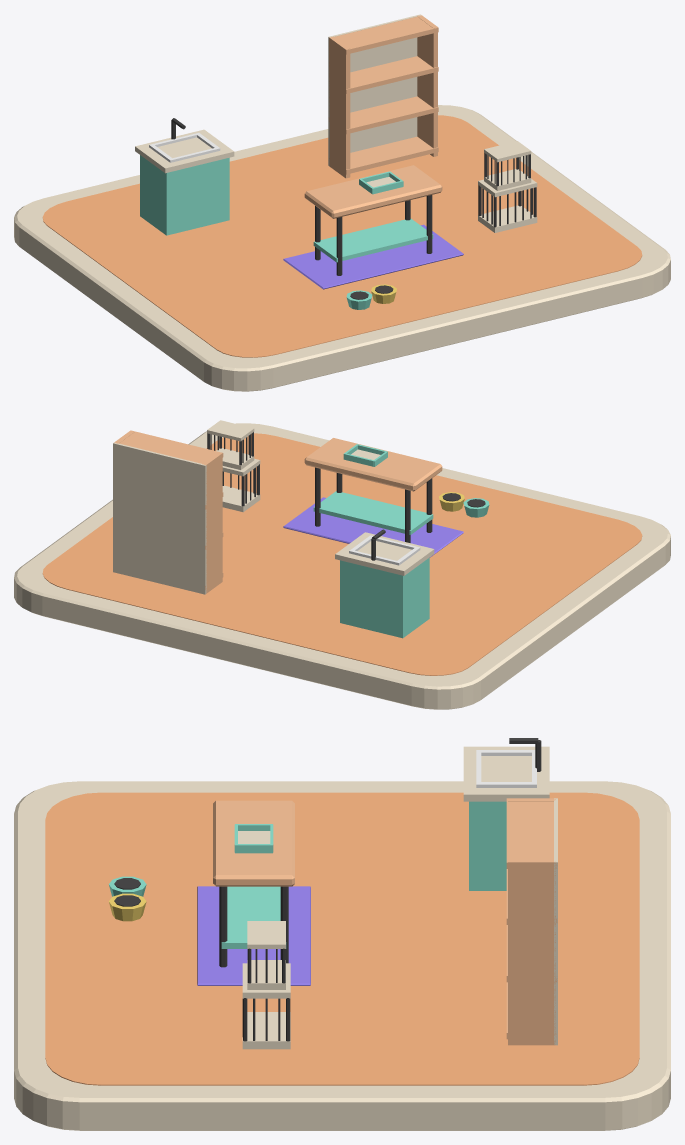
Rendered from room.fbx.
The picture shows the model from 3 angles, top to bottom: view 1: azimuth 30°, elevation 25°; view 2: azimuth 150°, elevation 25°; view 3: azimuth 270°, elevation 25°; orthographic projection. The views are drawn at different scales.
Visible parts, largest first — view 1: COM-02 Floor Surface, COM-01 Rounded Base Direct, Cabinet, Back, Rug, Worktop, Side, Lower shelf, Counter, Side.001, Shelf.003, Shelf.001 (+5 smaller); view 2: COM-02 Floor Surface, COM-01 Rounded Base Direct, Back, Cabinet, Worktop, Rug, Lower shelf, Side, Counter, Shelf.003, Floor, Roof.001 (+1 smaller); view 3: COM-02 Floor Surface, COM-01 Rounded Base Direct, Side.001, Worktop, Rug, Counter, Cabinet, Shelf.003, Lower shelf, Floor, Roof.001, Back (+4 smaller).
Part boxes in pixels (box(x1,y1,x2,y2)): COM-02 Floor Surface: box(42, 115, 642, 357); COM-01 Rounded Base Direct: box(14, 105, 670, 391); Cabinet: box(140, 155, 229, 235); Back: box(328, 14, 421, 166); Rug: box(283, 224, 463, 289); Worktop: box(304, 165, 442, 218); Side: box(329, 36, 350, 178); Lower shelf: box(313, 218, 433, 262); Counter: box(135, 129, 234, 173); Side.001: box(417, 15, 437, 156); Shelf.003: box(331, 16, 438, 54); Shelf.001: box(328, 96, 438, 134); COM-02 Floor Surface: box(42, 433, 642, 675); COM-01 Rounded Base Direct: box(14, 423, 670, 709); Back: box(113, 442, 206, 594); Cabinet: box(340, 557, 429, 638); Worktop: box(304, 438, 442, 491); Rug: box(283, 497, 463, 557); Lower shelf: box(313, 491, 433, 534); Side: box(202, 452, 222, 593); Counter: box(335, 532, 434, 575); Shelf.003: box(119, 430, 223, 467); Floor: box(222, 485, 260, 512); Roof.001: box(207, 420, 254, 441); COM-02 Floor Surface: box(45, 792, 639, 1085); COM-01 Rounded Base Direct: box(14, 781, 670, 1130); Side.001: box(508, 859, 555, 1045); Worktop: box(213, 800, 294, 886); Rug: box(197, 886, 310, 985); Counter: box(463, 746, 549, 801); Cabinet: box(469, 801, 506, 890); Shelf.003: box(506, 798, 557, 868); Lower shelf: box(221, 886, 286, 948); Floor: box(242, 1012, 290, 1049); Roof.001: box(247, 921, 285, 948); Back: box(554, 798, 557, 1045).
Bounding box in the file's own units: 600 × 190 × 520.
